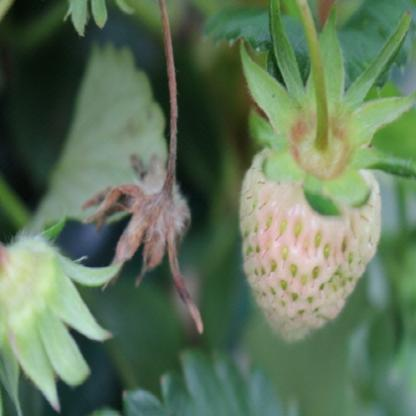Strawberry_Gray_Mold: (79, 150, 204, 336)
